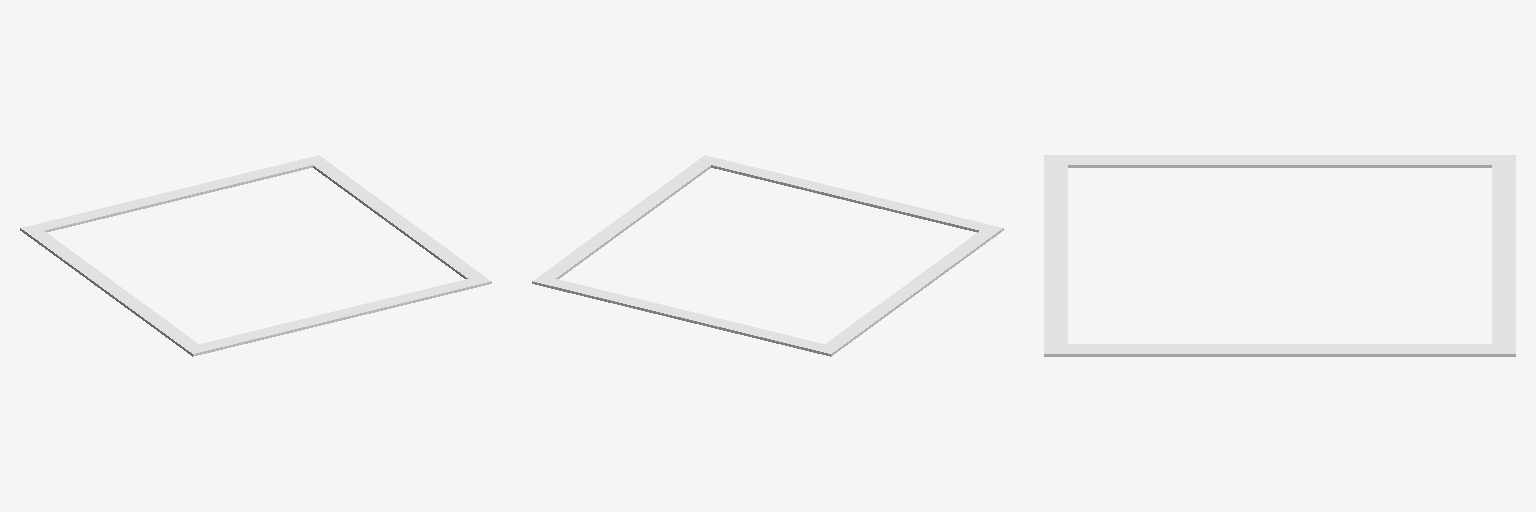
URDF robot description (zone.urdf):
<?xml version="1.0" ?>
<robot name="zone.urdf">
  <link name="baseLink">
    <contact>
      <lateral_friction value="1.0"/>
      <inertia_scaling value="3.0"/>
    </contact>
    <inertial>
      <origin rpy="0 0 0" xyz="-0.01 0 0.02"/>
       <mass value=".1"/>
       <inertia ixx="1" ixy="0" ixz="0" iyy="1" iyz="0" izz="1"/>
    </inertial>
    <visual>
      <origin rpy="0 0 0" xyz="0 0 0"/>
      <geometry>
				<mesh filename="zone.obj" scale="0.009 0.009 0.000075"/>
      </geometry>
      <material name="dummy">
        <color rgba="1 1 1 1"/>
      </material>
    </visual>
    <collision>
      <origin rpy="0 0 0" xyz="0 0 0"/>
      <geometry>
				<mesh filename="zone.obj" scale="0.009 0.009 0.000075"/>
      </geometry>
    </collision>
  </link>
</robot>

--- Facts derived from the render (not from the file) ---
The picture shows the robot from 3 angles, left to right: view 1: azimuth 30°, elevation 25°; view 2: azimuth 150°, elevation 25°; view 3: azimuth 270°, elevation 25°; orthographic projection.
Model zone.urdf with 1 links and 0 joints (none), rooted at baseLink, posed all joints at 0.
Links seen in each view (by area): view 1: baseLink; view 2: baseLink; view 3: baseLink.
Link boxes in pixels (bbox=[...]): baseLink: bbox=[20, 155, 491, 356]; baseLink: bbox=[532, 155, 1003, 356]; baseLink: bbox=[1044, 155, 1515, 356].
Size in the robot's own frame: 0.18 by 0.18 by 0.0015 metres.
Meshes: 1 distinct files referenced, 1 mesh visuals loaded (1 OBJ).